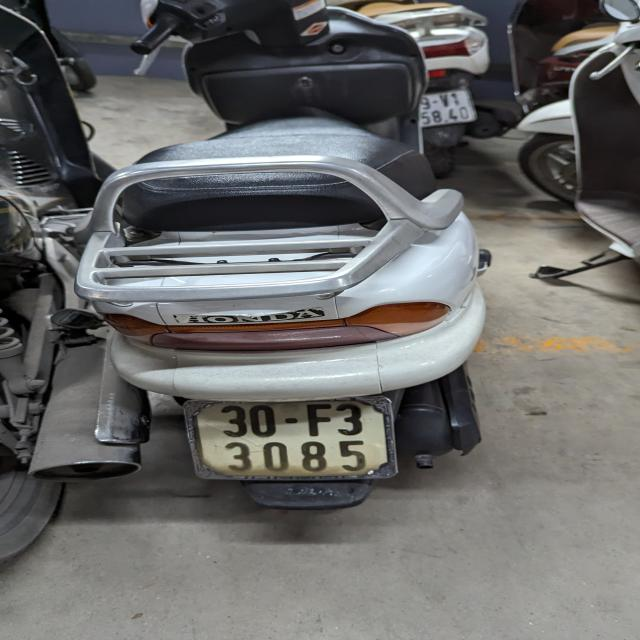License: (184, 398, 395, 481)
